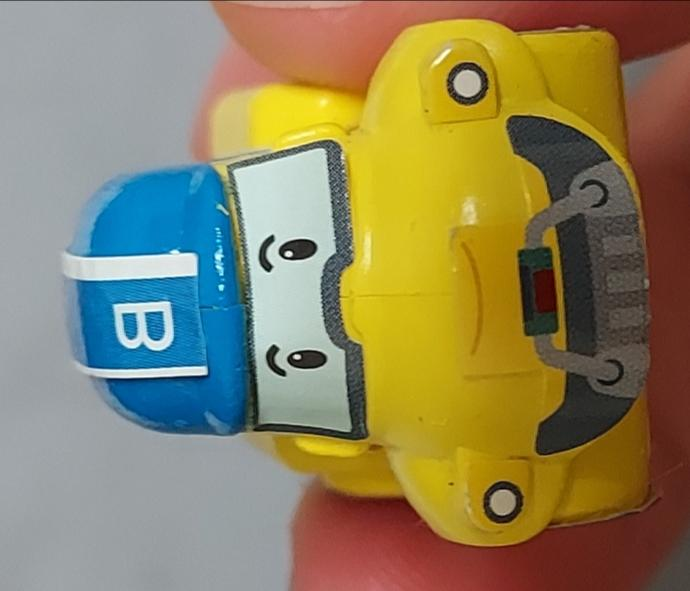car: (0, 1, 690, 591)
